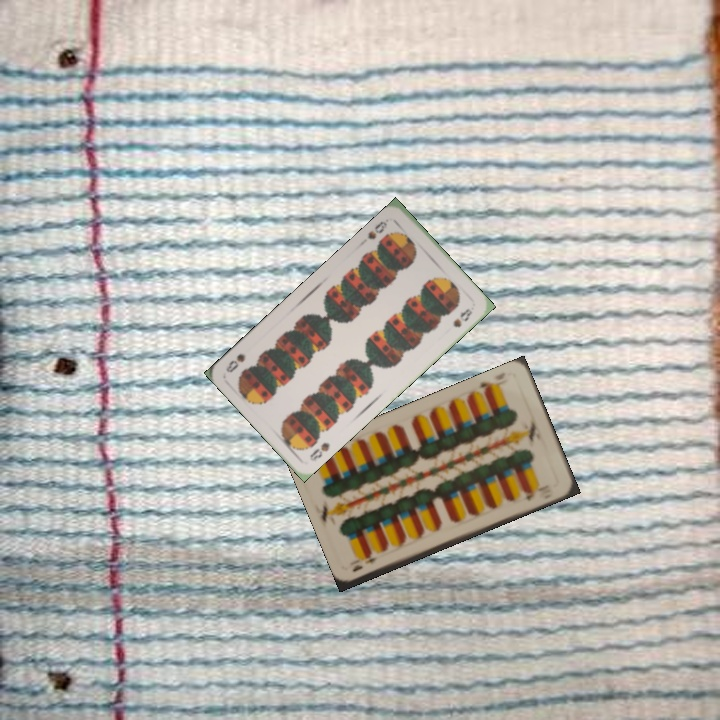E10: (348, 553, 380, 574), (475, 378, 498, 397)
S8: (364, 215, 391, 242), (305, 438, 333, 463)
